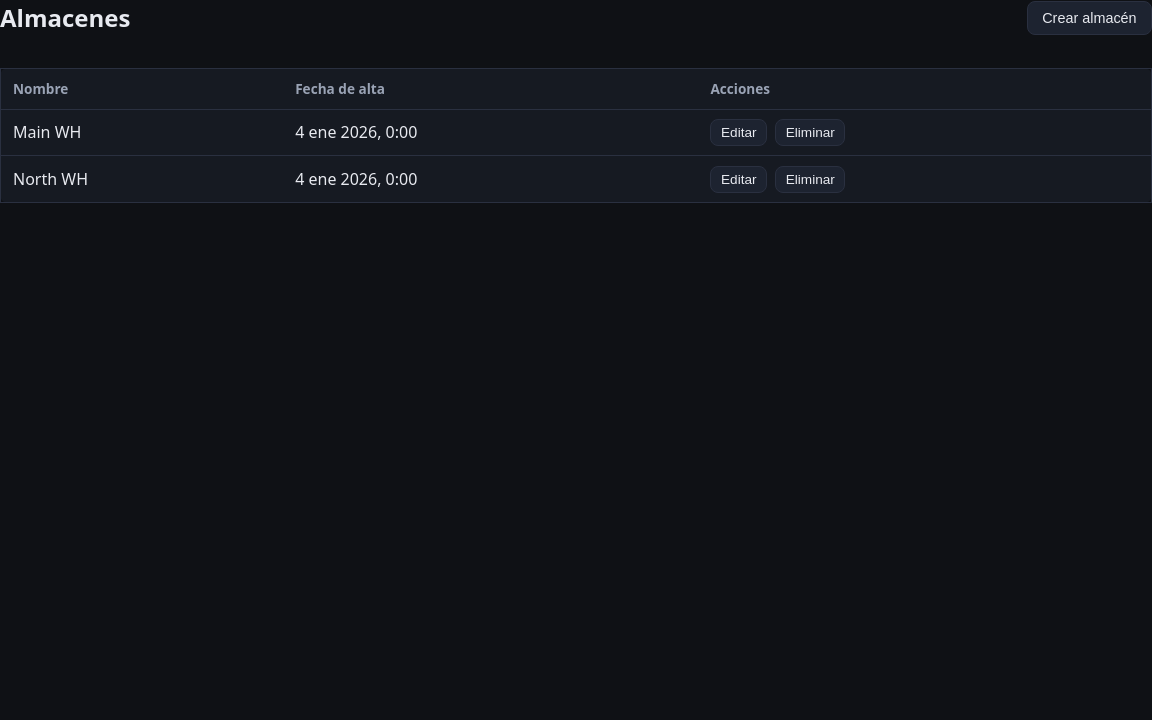
R-UI-CRM-8: warehouses list + create › R-UI-CRM-8: create valid name → 201, toast "Almacén creado", list refreshed
Expected: the text "Main WH" is shown, [0,109,283,156]
Click the button "Crear almacén" at (1089, 18), box [1027,1,1151,35]
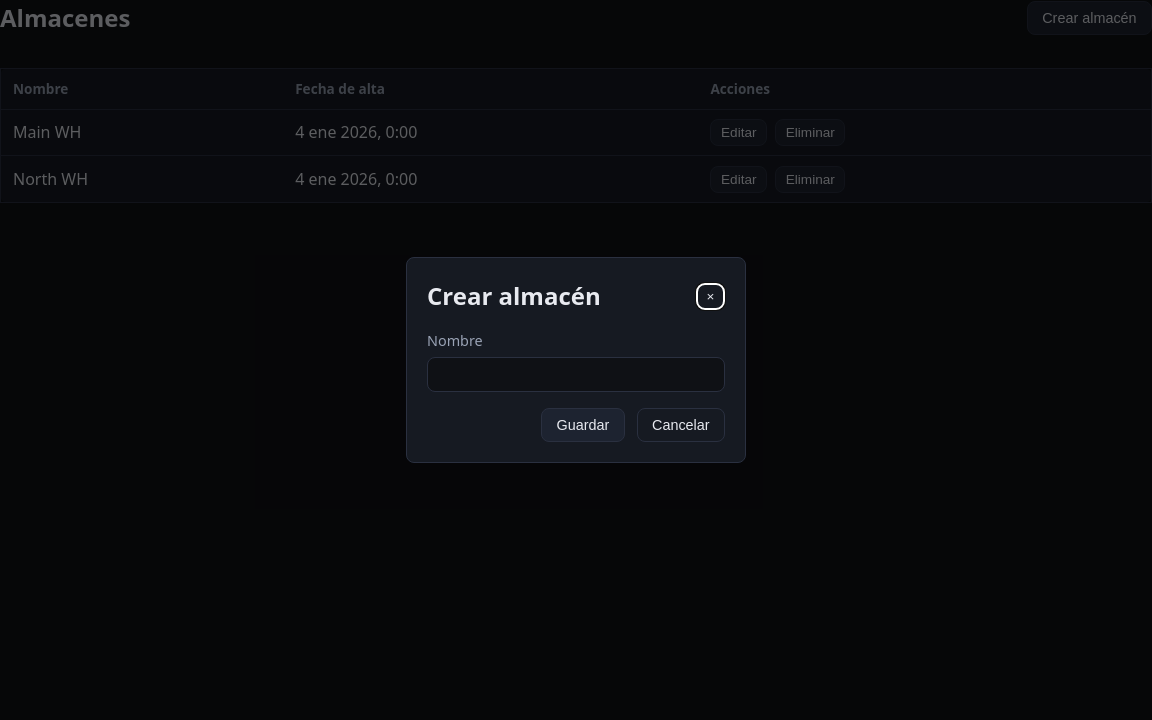
Type "South WH" into the field labelled "Nombre" at (576, 374), box [427,357,725,392]
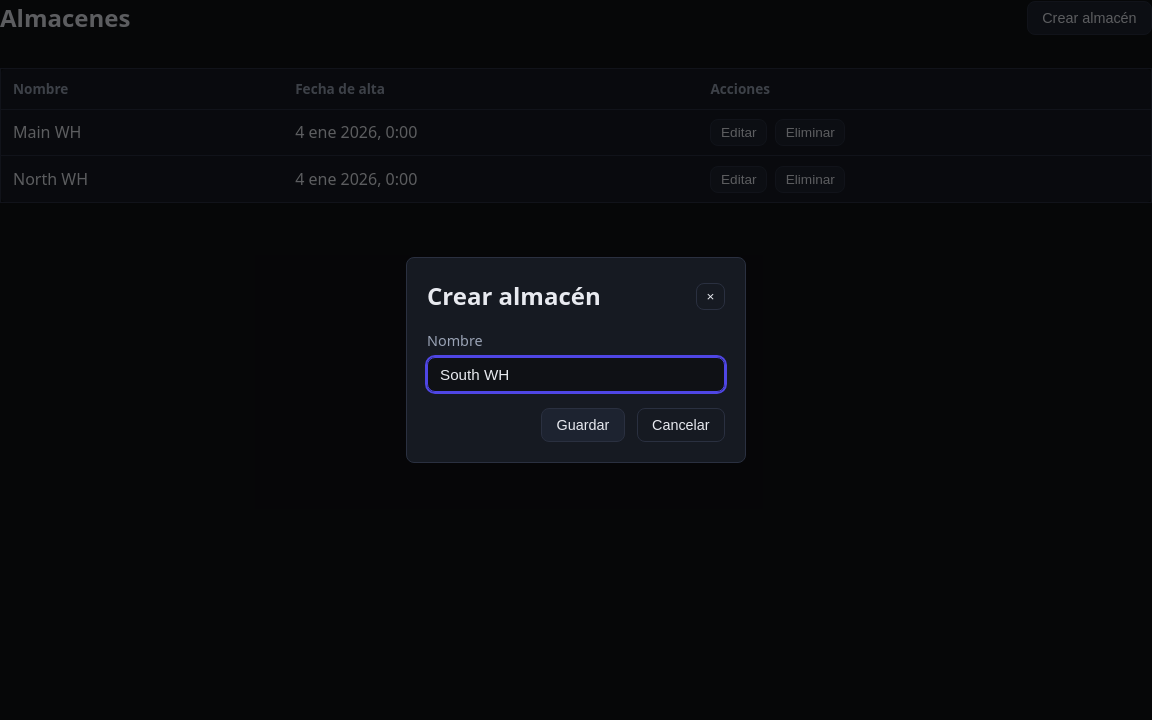
Click the button "Guardar" at (583, 425), box [541,408,625,442]
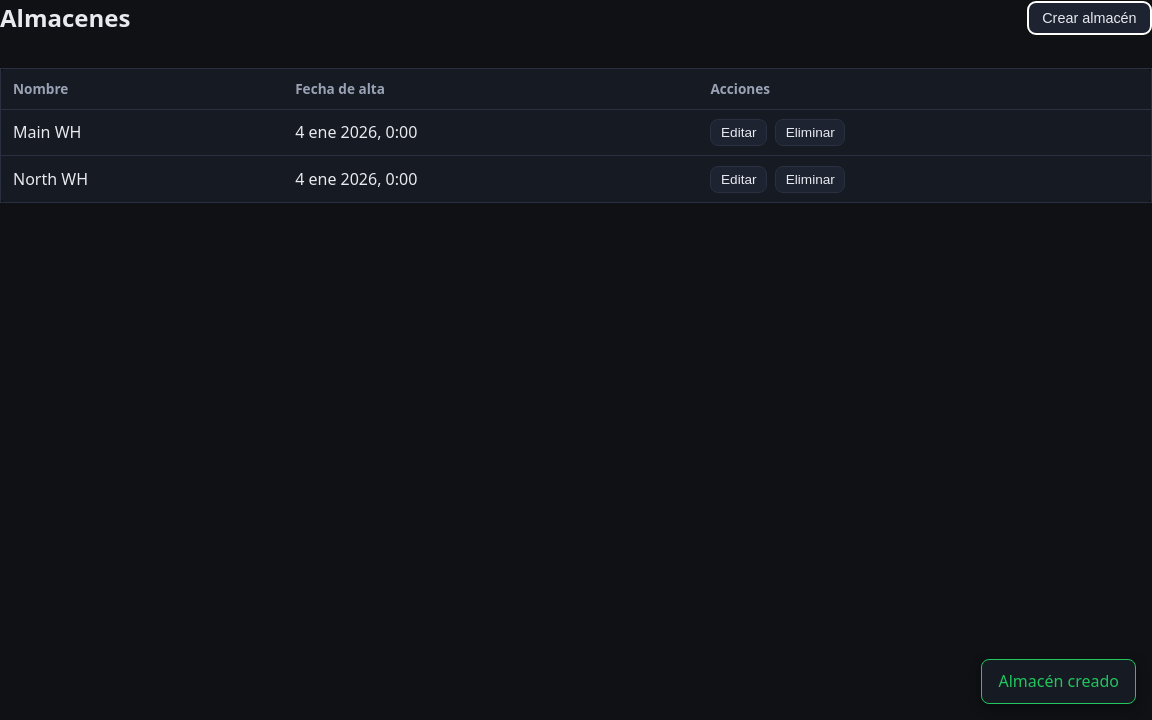
Expected: the text "Almacén creado" is shown, [982,659,1136,704]
